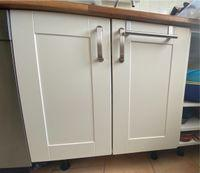cabinet_door: (17, 15, 111, 159), (113, 25, 185, 155)
handle: (95, 24, 105, 63), (116, 27, 126, 63)
